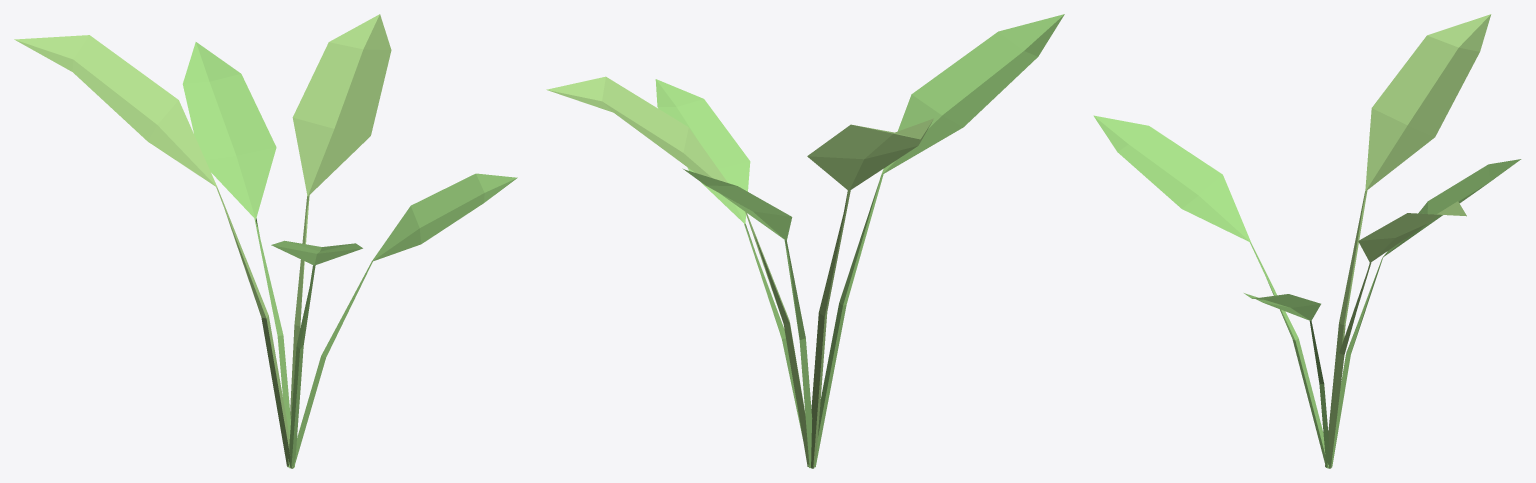
Rendered from Plant_j_OneS_04.fbx.
3 views of the same model, side by side, from view 1: azimuth 30°, elevation 25°; view 2: azimuth 150°, elevation 25°; view 3: azimuth 270°, elevation 25° (orthographic). The views are drawn at different scales.
Parts seen in each view (by area): view 1: Plant_j_OneS_04; view 2: Plant_j_OneS_04; view 3: Plant_j_OneS_04.
Boxes of the visible parts, x1,y1,x2,y2 form: Plant_j_OneS_04: [14, 14, 517, 468]; Plant_j_OneS_04: [546, 14, 1064, 468]; Plant_j_OneS_04: [1093, 14, 1521, 468].
Size of the model in its own units: 0.5032 by 0.528 by 0.5536.
